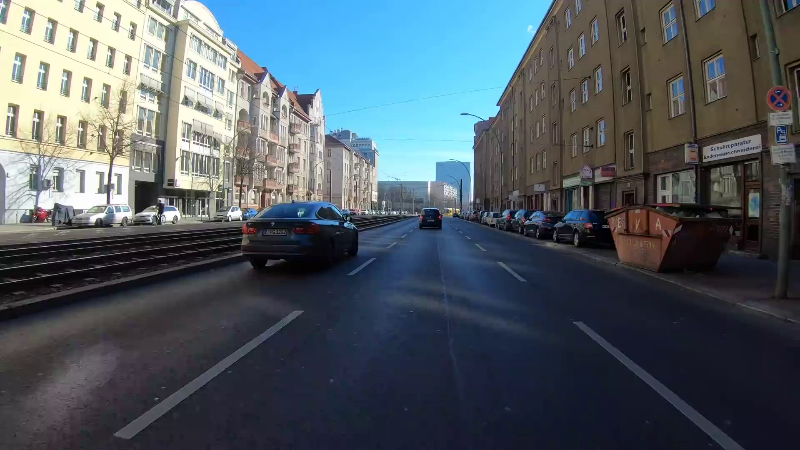Plate: (258, 227, 290, 237), (600, 222, 607, 229)
